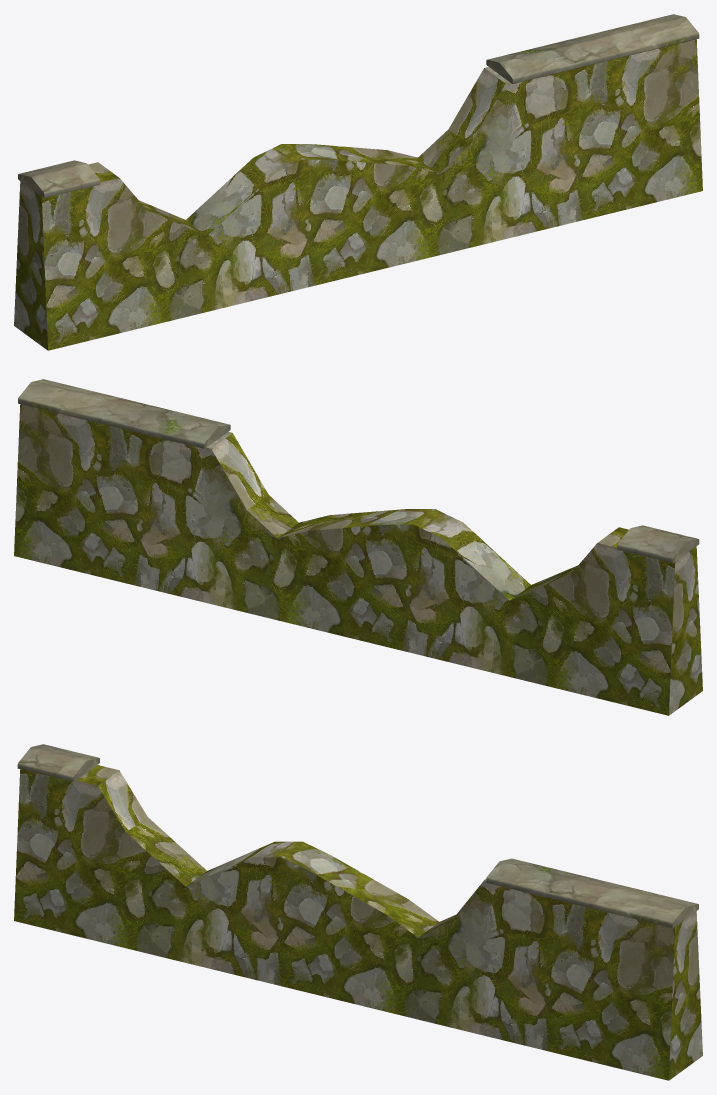
Rendered from Muro Danificado 1.fbx.
The picture shows the model from 3 angles, top to bottom: view 1: azimuth 30°, elevation 25°; view 2: azimuth 150°, elevation 25°; view 3: azimuth 330°, elevation 25°; orthographic projection.
Parts seen in each view (by area): view 1: Portão muro pedra danificado; view 2: Portão muro pedra danificado; view 3: Portão muro pedra danificado.
Part boxes in pixels (x1,y1,x2,y2): Portão muro pedra danificado: (14,14,702,350); Portão muro pedra danificado: (14,379,702,715); Portão muro pedra danificado: (14,744,702,1080).
Size of the model in its own units: 845 by 199 by 76.15.
